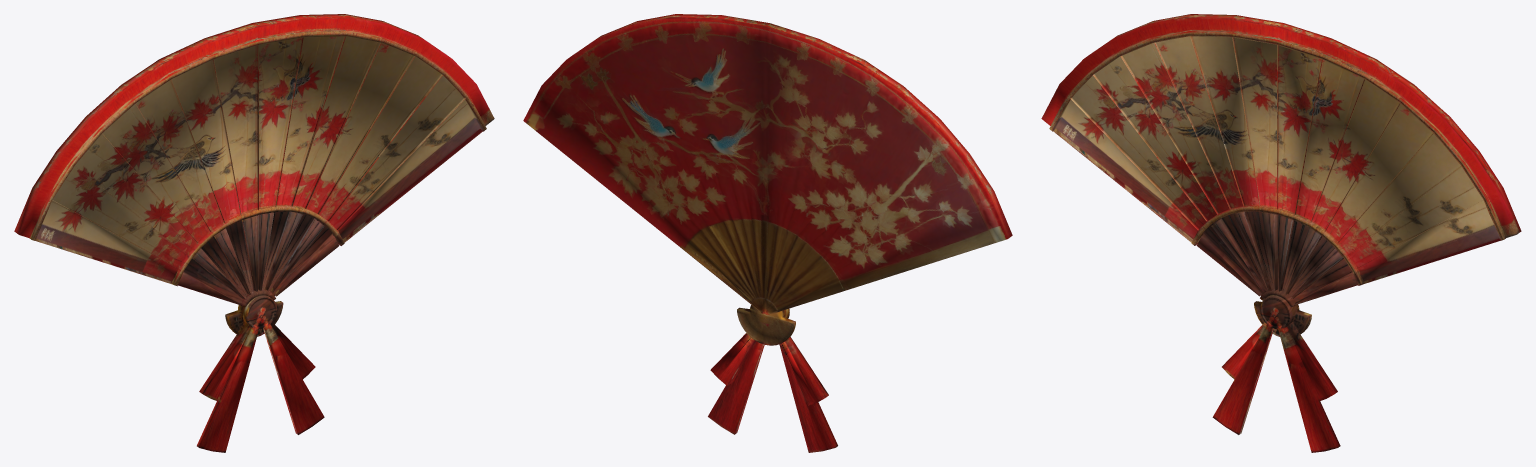
Rendered from 扇面冰箱贴_0421014609_texture.fbx.
The picture shows the model from 3 angles, left to right: view 1: azimuth 30°, elevation 25°; view 2: azimuth 150°, elevation 25°; view 3: azimuth 330°, elevation 25°; orthographic projection.
Visible parts, largest first — view 1: Mesh_0; view 2: Mesh_0; view 3: Mesh_0.
Part boxes in pixels (x1=…): Mesh_0: x1=14, y1=14, x2=494, y2=452; Mesh_0: x1=523, y1=14, x2=1012, y2=452; Mesh_0: x1=1041, y1=14, x2=1521, y2=452.
Size of the model in its own units: 1201 by 1000 by 41.26.
Materials: 1 (1 with a texture image).
